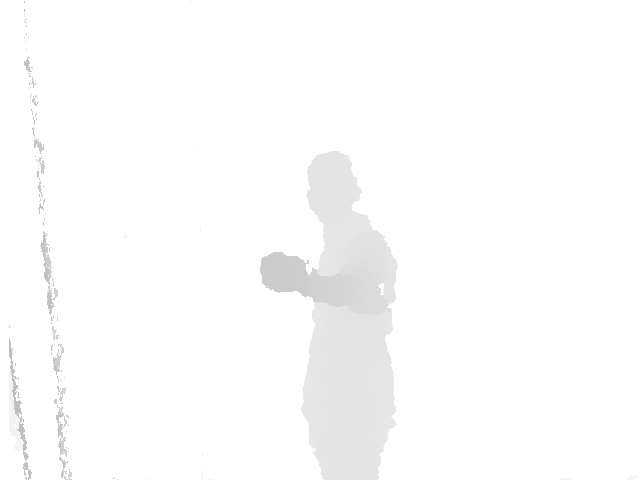head: (305, 150, 362, 225)
person: (259, 150, 397, 480)
